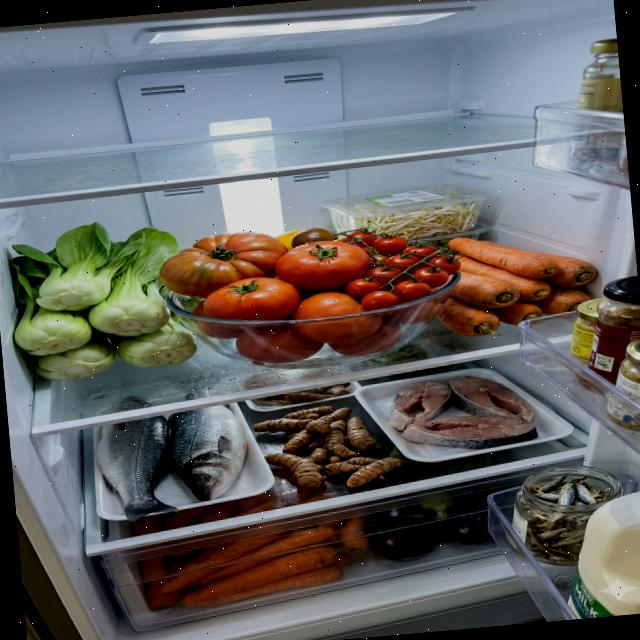anchovies: (517, 468, 619, 566)
bean_sprouts: (336, 191, 480, 245)
carrot: (140, 514, 374, 614), (430, 225, 602, 340)
fish: (92, 402, 254, 524), (385, 369, 539, 457)
pakchoy: (4, 213, 202, 384)
tomato: (197, 214, 469, 370)
turmeric: (252, 398, 408, 496)
